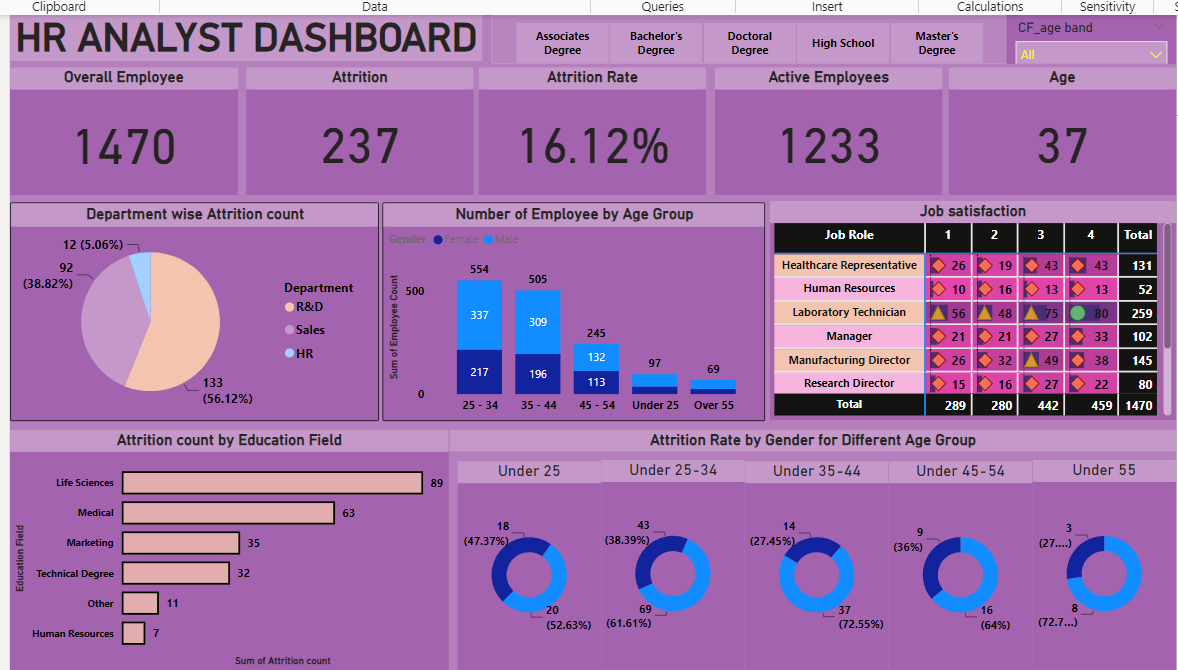

This screenshot's page, from the dashboard's own definition file:
{"tool":"powerbi","page":{"name":"Dashboard","canvas":[1280,720],"ordinal":5},"visuals":[{"type":"textbox","title":"HR ANALYST DASHBOARD","box":[0,0,518.7,50.8],"z":0},{"type":"card","title":"Overall Employee","fields":{"Values":["Sum(HR data.Employee Count)"]},"box":[0,57.6,250,140],"z":1000},{"type":"card","title":"Active Employees","fields":{"Values":["HR data.Active Employees"]},"box":[773.9,57.6,249.7,140],"z":2000},{"type":"card","title":"Age","fields":{"Values":["Avg(HR data.Age)"]},"box":[1030.5,57.6,249.7,140],"z":3000},{"type":"card","title":"Attrition Rate","fields":{"Values":["HR data.Attrition rate"]},"box":[514.6,57.6,249.7,140],"z":4000},{"type":"card","title":"Attrition","fields":{"Values":["Sum(HR data.Attrition count)"]},"box":[259.3,57.6,249.7,140],"z":5000},{"type":"pieChart","title":"Department wise Attrition count","fields":{"Category":["HR data.Department"],"Y":["Sum(HR data.Attrition count)"]},"box":[0,205.8,405,240.1],"z":6000},{"type":"columnChart","title":"Number of Employee by Age Group","fields":{"Category":["HR data.CF_age band"],"Y":["Sum(HR data.Employee Count)"],"Series":["HR data.Gender"]},"box":[408.9,205.8,420,240.1],"z":7000},{"type":"pivotTable","title":"Job satisfaction ","fields":{"Rows":["HR data.Job Role"],"Columns":["HR data.Job Satisfaction"],"Values":["Sum(HR data.Employee Count)"]},"box":[834.3,204.5,446,240.1],"z":8000},{"type":"clusteredBarChart","title":"Attrition count by Education Field","fields":{"Y":["Sum(HR data.Attrition count)"],"Category":["HR data.Education Field"]},"box":[0,455.6,481.6,264.8],"z":9000},{"type":"donutChart","title":"Under 25","fields":{"Series":["HR data.CF_age band"],"Y":["Sum(HR data.Attrition count)"],"Category":["HR data.Gender"]},"box":[491.3,489.9,157.8,230.5],"z":10000},{"type":"donutChart","title":"Under 55","fields":{"Series":["HR data.CF_age band"],"Y":["Sum(HR data.Attrition count)"],"Category":["HR data.Gender"]},"box":[1122.5,488.5,157.8,230.5],"z":11000},{"type":"donutChart","title":"Under 35-44","fields":{"Series":["HR data.CF_age band"],"Y":["Sum(HR data.Attrition count)"],"Category":["HR data.Gender"]},"box":[806.9,489.9,157.8,230.5],"z":12000},{"type":"donutChart","title":"Under 45-54","fields":{"Series":["HR data.CF_age band"],"Y":["Sum(HR data.Attrition count)"],"Category":["HR data.Gender"]},"box":[964.7,489.9,157.8,230.5],"z":13000},{"type":"donutChart","title":"Under 25-34","fields":{"Series":["HR data.CF_age band"],"Y":["Sum(HR data.Attrition count)"],"Category":["HR data.Gender"]},"box":[649.1,488.5,157.8,230.5],"z":14000},{"type":"textbox","title":"Attrition Rate by Gender for Different Age Group","box":[483,455.6,797.3,23.3],"z":15000},{"type":"slicer","fields":{"Values":["HR data.Education"]},"box":[528.3,0,565.4,53.5],"z":16000},{"type":"slicer","fields":{"Values":["HR data.CF_age band"]},"box":[1093.7,0,186.6,53.5],"z":17000}]}

Visuals, with their boxes on the page's 1280x720 design canvas (x1, y1, x2, y2). These are canvas units, not pixel positions in the 1178x670 screenshot, which may show the page scaled, cropped or inside an application window:
"HR ANALYST DASHBOARD" textbox: crop(0, 0, 519, 51)
"Overall Employee" card: crop(0, 58, 250, 198)
"Active Employees" card: crop(774, 58, 1024, 198)
"Age" card: crop(1030, 58, 1280, 198)
"Attrition Rate" card: crop(515, 58, 764, 198)
"Attrition" card: crop(259, 58, 509, 198)
"Department wise Attrition count" pieChart: crop(0, 206, 405, 446)
"Number of Employee by Age Group" columnChart: crop(409, 206, 829, 446)
"Job satisfaction " pivotTable: crop(834, 204, 1280, 445)
"Attrition count by Education Field" clusteredBarChart: crop(0, 456, 482, 720)
"Under 25" donutChart: crop(491, 490, 649, 720)
"Under 55" donutChart: crop(1122, 488, 1280, 719)
"Under 35-44" donutChart: crop(807, 490, 965, 720)
"Under 45-54" donutChart: crop(965, 490, 1122, 720)
"Under 25-34" donutChart: crop(649, 488, 807, 719)
"Attrition Rate by Gender for Different Age Group" textbox: crop(483, 456, 1280, 479)
slicer - HR data.Education: crop(528, 0, 1094, 54)
slicer - HR data.CF_age band: crop(1094, 0, 1280, 54)
